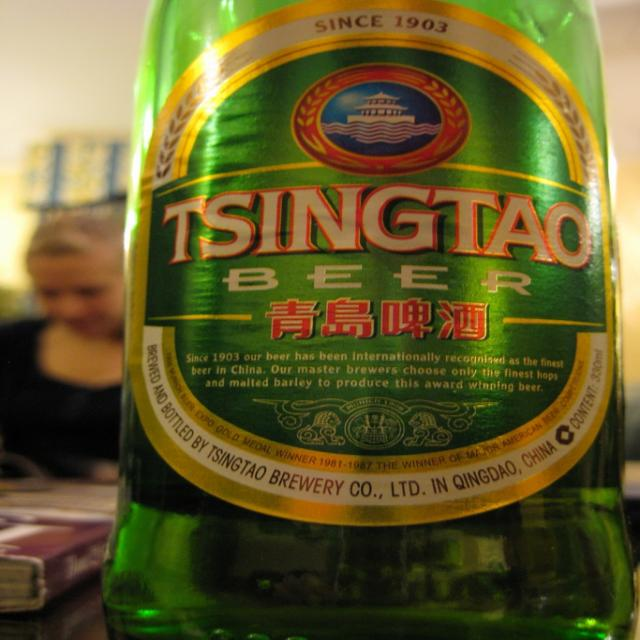tsingtao: (126, 2, 614, 527)
